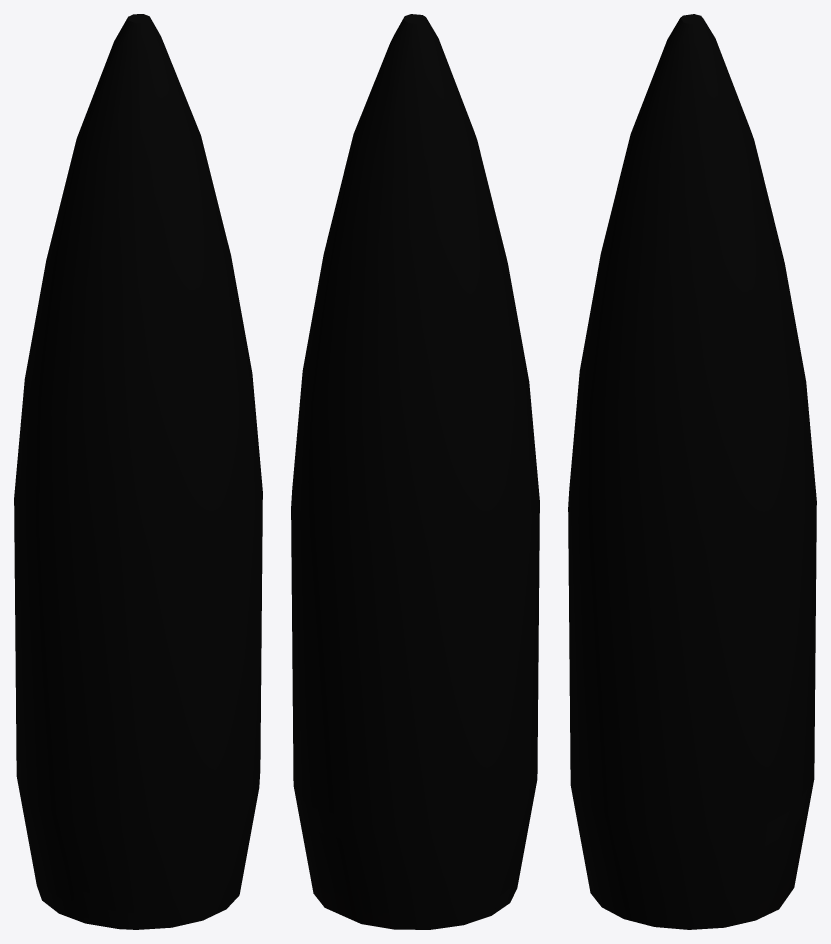
File: 556_bullet.glb
3 views of the same model, side by side, from view 1: azimuth 30°, elevation 25°; view 2: azimuth 150°, elevation 25°; view 3: azimuth 270°, elevation 25° (orthographic).
Parts seen in each view (by area): view 1: 556_bullet; view 2: 556_bullet; view 3: 556_bullet.
Part boxes in pixels (bbox=[...]): 556_bullet: bbox=[14, 14, 262, 929]; 556_bullet: bbox=[291, 14, 539, 929]; 556_bullet: bbox=[568, 14, 816, 929].
Size of the model in its own units: 0.00939 by 0.0362 by 0.00939.
Materials: 1 (1 with a texture image).
